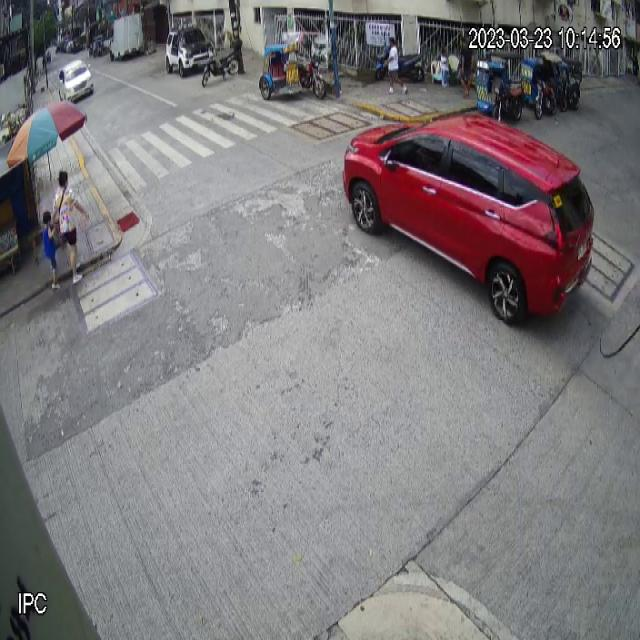Car: (342, 108, 597, 333)
Tricycle: (258, 31, 328, 100)
